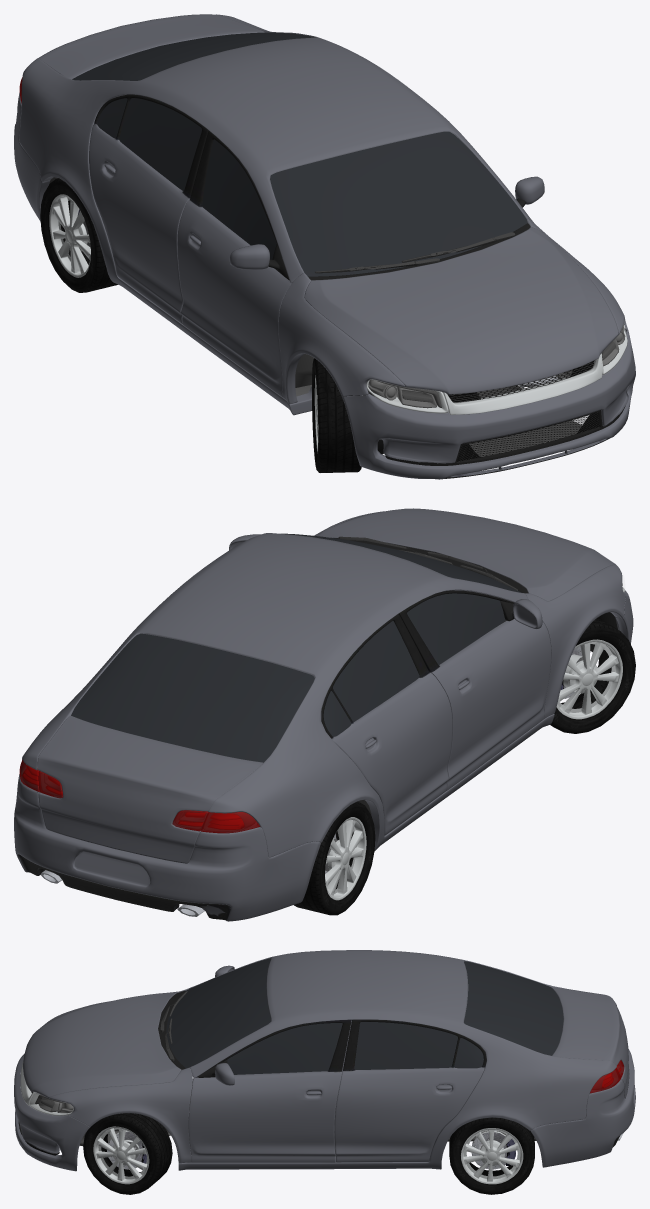
Rendered from generic_sedan_car.glb.
The picture shows the model from 3 angles, top to bottom: view 1: azimuth 30°, elevation 25°; view 2: azimuth 150°, elevation 25°; view 3: azimuth 270°, elevation 25°; orthographic projection. The views are drawn at different scales.
Parts seen in each view (by area): view 1: sedan-unibody_65, hood_60, windshield_102, bumper-front_8, door-front-r_17, door-rear-r_23, fender-front-r_33, trunk_99, door-rear-window-glass-r_27, door-front-window-glass-r_19, glass-rear_42, generic-tire-low.001_125 (+14 smaller); view 2: sedan-unibody_65, glass-rear_42, trunk_99, bumper-rear_10, door-front-r_17, door-rear-r_23, hood_60, fender-front-r_33, door-rear-window-glass-r_27, door-front-window-glass-r_19, generic-wheel.001_126, generic-tire-low.001_125 (+8 smaller); view 3: sedan-unibody_65, door-front-l_16, door-rear-l_22, hood_60, windshield_102, glass-rear_42, fender-front-l_32, bumper-rear_10, trunk_99, door-rear-window-glass-l_26, door-front-window-glass-l_18, bumper-front_8 (+10 smaller).
Boxes of the visible parts, left/top/right/bottom form: sedan-unibody_65: left=19, top=14, right=533, bottom=415; hood_60: left=304, top=227, right=618, bottom=394; windshield_102: left=270, top=131, right=527, bottom=276; bumper-front_8: left=342, top=328, right=635, bottom=479; door-front-r_17: left=177, top=131, right=291, bottom=396; door-rear-r_23: left=89, top=94, right=208, bottom=323; fender-front-r_33: left=278, top=273, right=404, bottom=404; trunk_99: left=39, top=14, right=264, bottom=79; door-rear-window-glass-r_27: left=119, top=98, right=201, bottom=190; door-front-window-glass-r_19: left=202, top=139, right=276, bottom=259; glass-rear_42: left=72, top=32, right=314, bottom=80; generic-tire-low.001_125: left=312, top=358, right=361, bottom=472; sedan-unibody_65: left=20, top=533, right=554, bottom=857; glass-rear_42: left=71, top=633, right=314, bottom=762; trunk_99: left=37, top=715, right=262, bottom=863; bumper-rear_10: left=14, top=774, right=320, bottom=921; door-front-r_17: left=398, top=590, right=551, bottom=790; door-rear-r_23: left=321, top=614, right=452, bottom=835; hood_60: left=314, top=508, right=615, bottom=601; fender-front-r_33: left=525, top=564, right=625, bottom=718; door-rear-window-glass-r_27: left=333, top=621, right=419, bottom=721; door-front-window-glass-r_19: left=407, top=593, right=505, bottom=664; generic-wheel.001_126: left=556, top=639, right=622, bottom=719; generic-tire-low.001_125: left=550, top=617, right=635, bottom=733; sedan-unibody_65: left=178, top=950, right=621, bottom=1170; door-front-l_16: left=188, top=1019, right=351, bottom=1162; door-rear-l_22: left=334, top=1019, right=486, bottom=1162; hood_60: left=23, top=991, right=181, bottom=1098; windshield_102: left=166, top=958, right=270, bottom=1068; glass-rear_42: left=464, top=961, right=563, bottom=1055; fender-front-l_32: left=49, top=1067, right=192, bottom=1163; bumper-rear_10: left=530, top=1049, right=635, bottom=1167; trunk_99: left=552, top=987, right=629, bottom=1098; door-rear-window-glass-l_26: left=354, top=1022, right=457, bottom=1069; door-front-window-glass-l_18: left=227, top=1023, right=342, bottom=1074; bumper-front_8: left=14, top=1054, right=89, bottom=1171.
Size of the model in its own units: 2.16 by 1.5 by 4.98.
Materials: 19 (5 with a texture image).
